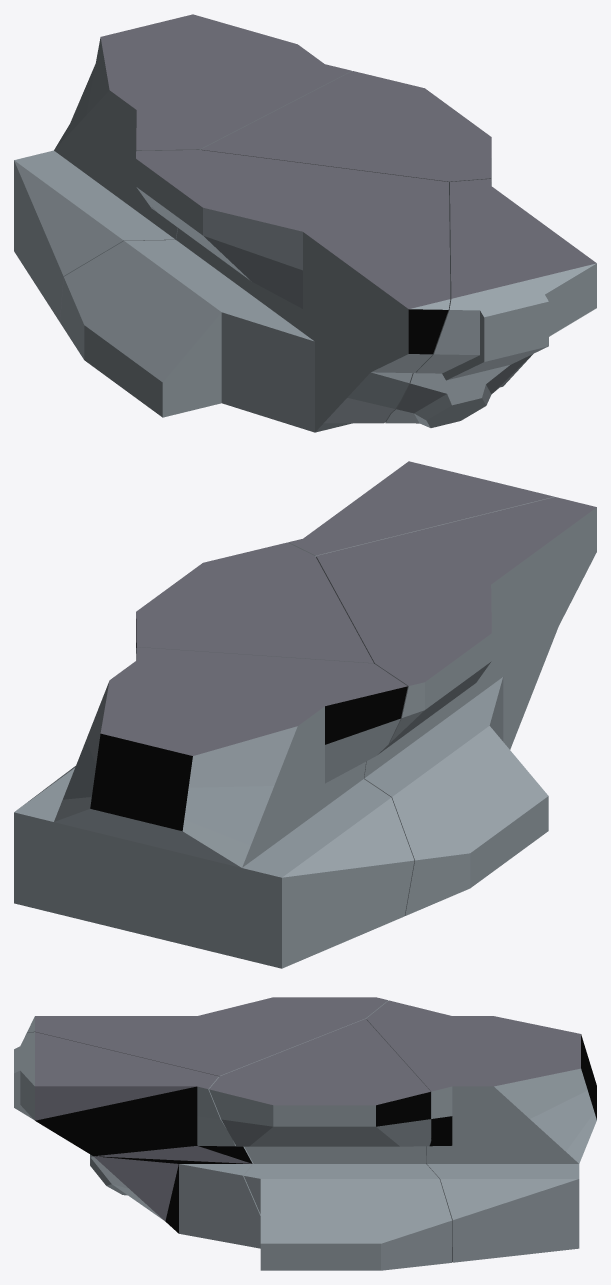
Rendered from BrokenShip.fbx.
3 views of the same model, one above another, from view 1: azimuth 30°, elevation 25°; view 2: azimuth 150°, elevation 25°; view 3: azimuth 270°, elevation 25° (orthographic). The views are drawn at different scales.
Visible parts, largest first — view 1: hardpoint_base_clip_cell, hardpoint_base_clip_cell.001, hardpoint_base_clip_cell.002, hardpoint_base_clip_cell.003; view 2: hardpoint_base_clip_cell.001, hardpoint_base_clip_cell, hardpoint_base_clip_cell.003, hardpoint_base_clip_cell.002; view 3: hardpoint_base_clip_cell.003, hardpoint_base_clip_cell.001, hardpoint_base_clip_cell.002, hardpoint_base_clip_cell.
Part boxes in pixels (x1,y1,x2,y2): hardpoint_base_clip_cell: (60,150,450,432); hardpoint_base_clip_cell.001: (14,14,351,321); hardpoint_base_clip_cell.002: (385,179,596,427); hardpoint_base_clip_cell.003: (200,71,491,185); hardpoint_base_clip_cell.001: (14,647,414,968); hardpoint_base_clip_cell: (316,497,596,915); hardpoint_base_clip_cell.003: (62,542,373,775); hardpoint_base_clip_cell.002: (288,461,554,556); hardpoint_base_clip_cell.003: (209,1019,452,1270); hardpoint_base_clip_cell.001: (366,1000,596,1262); hardpoint_base_clip_cell.002: (14,1032,260,1248); hardpoint_base_clip_cell: (27,997,388,1076).
Size of the model in its own units: 97.96 by 46.6 by 167.
